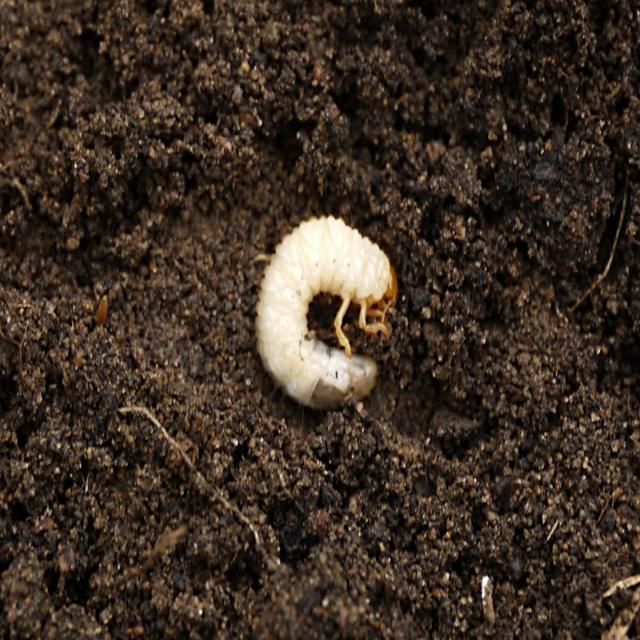Grub-Adult-: (242, 199, 409, 436)
